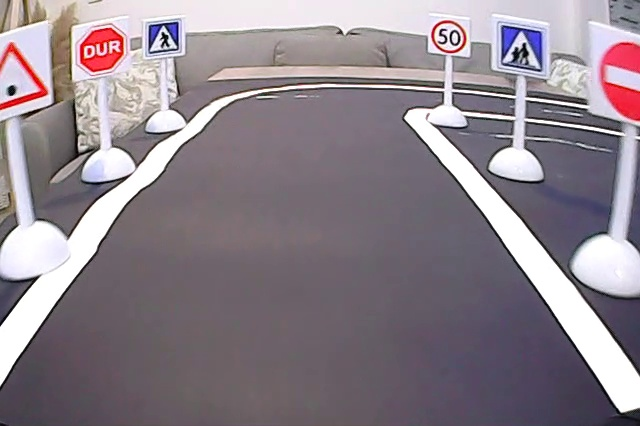do not enter: (590, 24, 640, 123)
green light: (1, 21, 49, 113)
pedestrian crossing: (146, 18, 185, 58)
school crossing: (494, 18, 549, 78)
speed limit 50: (432, 18, 468, 56)
stop sign: (71, 24, 130, 79)
